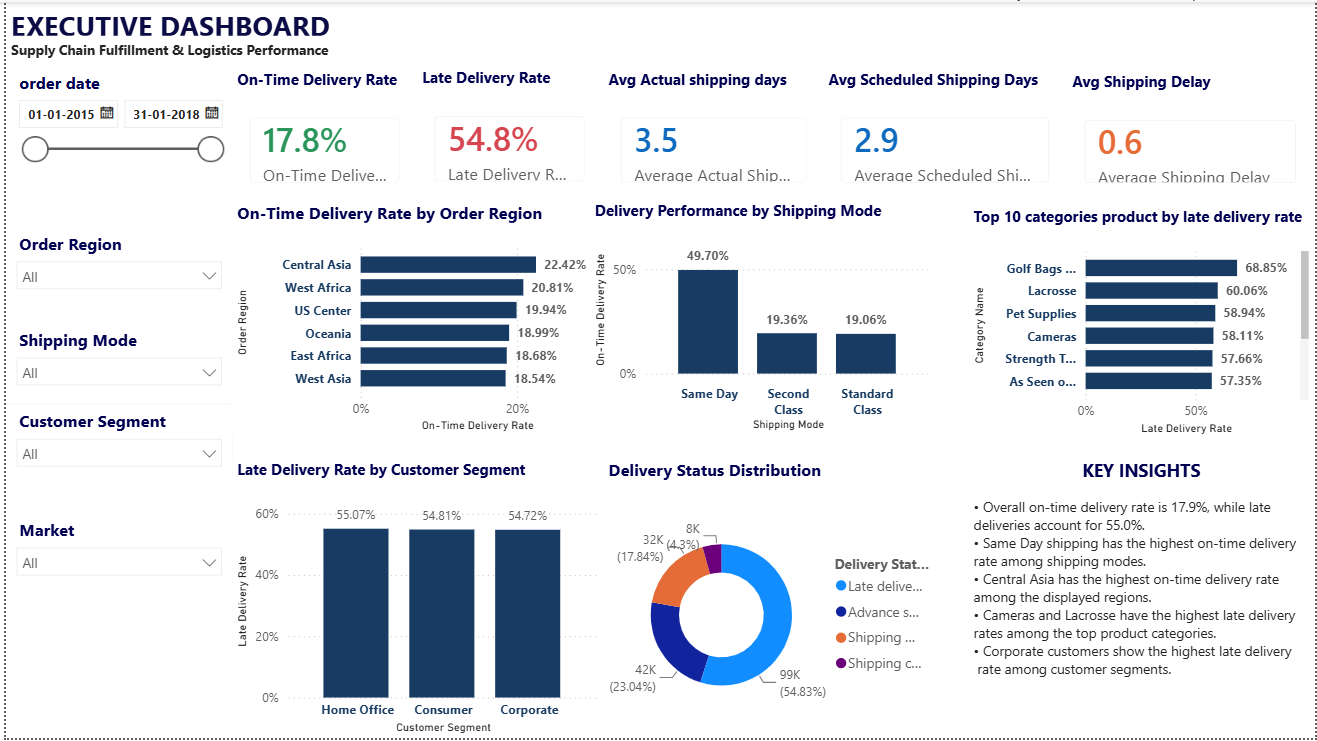

The dashboard page shown, as its layout file describes it:
{"tool":"powerbi","page":{"name":"Page 1","canvas":[1280,720],"ordinal":0},"visuals":[{"type":"shape","box":[0,62.7,221.3,657.3],"z":0},{"type":"textbox","box":[0,0,328.9,47.7],"z":1000},{"type":"textbox","box":[0,33,328.9,29.3],"z":2000},{"type":"slicer","fields":{"Values":["DataCoSupplyChainDataset_cleaned.Order Region"]},"box":[0,220,221.3,94.7],"z":3000},{"type":"slicer","fields":{"Values":["DataCoSupplyChainDataset_cleaned.Shipping Mode"]},"box":[0,314.7,221.3,78.7],"z":4000},{"type":"slicer","fields":{"Values":["DataCoSupplyChainDataset_cleaned.order date (DateOrders)"]},"box":[0,62.7,221.3,157.3],"z":5000},{"type":"slicer","fields":{"Values":["DataCoSupplyChainDataset_cleaned.Customer Segment"]},"box":[0,393.3,221.3,106.7],"z":6000},{"type":"slicer","fields":{"Values":["DataCoSupplyChainDataset_cleaned.Market"]},"box":[0,500,221.3,220],"z":7000},{"type":"cardVisual","title":"On-Time Delivery Rate","fields":{"Data":["DataCoSupplyChainDataset_cleaned.On-Time Delivery Rate"]},"box":[221.3,65.3,181.3,129.3],"z":8000},{"type":"cardVisual","title":"Late Delivery Rate","fields":{"Data":["DataCoSupplyChainDataset_cleaned.Late Delivery Rate"]},"box":[402.7,64,181.3,129.3],"z":9000},{"type":"cardVisual","title":"Avg Actual shipping days","fields":{"Data":["DataCoSupplyChainDataset_cleaned.Average Actual Shipping Days"]},"box":[584,65.3,216,129.3],"z":10000},{"type":"cardVisual","title":"Avg Scheduled Shipping Days","fields":{"Data":["DataCoSupplyChainDataset_cleaned.Average Scheduled Shipping Days"]},"box":[800,65.3,238.7,129.3],"z":11000},{"type":"cardVisual","title":"Avg Shipping Delay","fields":{"Data":["DataCoSupplyChainDataset_cleaned.Average Shipping Delay"]},"box":[1038.7,62.7,241.3,132],"z":12000},{"type":"clusteredBarChart","title":"On-Time Delivery Rate by Order Region","fields":{"Category":["DataCoSupplyChainDataset_cleaned.Order Region"],"Y":["DataCoSupplyChainDataset_cleaned.On-Time Delivery Rate"]},"box":[221.3,194.4,380.3,231.1],"z":13000},{"type":"clusteredColumnChart","title":"Delivery Performance by Shipping Mode","fields":{"Category":["DataCoSupplyChainDataset_cleaned.Shipping Mode"],"Y":["DataCoSupplyChainDataset_cleaned.On-Time Delivery Rate"]},"box":[571.1,193.2,338.7,231.1],"z":14000},{"type":"clusteredBarChart","title":"Top 10 categories product by late delivery rate ","fields":{"Category":["DataCoSupplyChainDataset_cleaned.Category Name"],"Y":["DataCoSupplyChainDataset_cleaned.Late Delivery Rate"]},"box":[941.6,199.3,337.5,228.7],"z":15000},{"type":"clusteredColumnChart","fields":{"Y":["DataCoSupplyChainDataset_cleaned.Late Delivery Rate"],"Category":["DataCoSupplyChainDataset_cleaned.Customer Segment"]},"box":[221.3,446.3,363.2,273.9],"z":16000},{"type":"donutChart","title":"Delivery Status Distribution","fields":{"Category":["DataCoSupplyChainDataset_cleaned.Delivery Status"],"Y":["DataCoSupplyChainDataset_cleaned.Total Deliveries"]},"box":[584,446,326,274],"z":17000},{"type":"textbox","title":"KEY INSIGHTS","box":[942,446,338,274],"z":18000}]}

Visuals, with their boxes in screenshot pixels (x1, y1, x2, y2), scaled from the page's 1280x720 canvas onto the 1317x741 screenshot:
shape: {"x1": 0, "y1": 65, "x2": 228, "y2": 740}
textbox: {"x1": 0, "y1": 0, "x2": 338, "y2": 49}
textbox: {"x1": 0, "y1": 34, "x2": 338, "y2": 64}
slicer - DataCoSupplyChainDataset_cleaned.Order Region: {"x1": 0, "y1": 226, "x2": 228, "y2": 324}
slicer - DataCoSupplyChainDataset_cleaned.Shipping Mode: {"x1": 0, "y1": 324, "x2": 228, "y2": 405}
slicer - DataCoSupplyChainDataset_cleaned.order date (DateOrders): {"x1": 0, "y1": 65, "x2": 228, "y2": 226}
slicer - DataCoSupplyChainDataset_cleaned.Customer Segment: {"x1": 0, "y1": 405, "x2": 228, "y2": 515}
slicer - DataCoSupplyChainDataset_cleaned.Market: {"x1": 0, "y1": 515, "x2": 228, "y2": 740}
"On-Time Delivery Rate" cardVisual: {"x1": 228, "y1": 67, "x2": 414, "y2": 200}
"Late Delivery Rate" cardVisual: {"x1": 414, "y1": 66, "x2": 601, "y2": 199}
"Avg Actual shipping days" cardVisual: {"x1": 601, "y1": 67, "x2": 823, "y2": 200}
"Avg Scheduled Shipping Days" cardVisual: {"x1": 823, "y1": 67, "x2": 1069, "y2": 200}
"Avg Shipping Delay" cardVisual: {"x1": 1069, "y1": 65, "x2": 1316, "y2": 200}
"On-Time Delivery Rate by Order Region" clusteredBarChart: {"x1": 228, "y1": 200, "x2": 619, "y2": 438}
"Delivery Performance by Shipping Mode" clusteredColumnChart: {"x1": 588, "y1": 199, "x2": 936, "y2": 437}
"Top 10 categories product by late delivery rate " clusteredBarChart: {"x1": 969, "y1": 205, "x2": 1316, "y2": 440}
clusteredColumnChart - DataCoSupplyChainDataset_cleaned.Late Delivery Rate x DataCoSupplyChainDataset_cleaned.Customer Segment: {"x1": 228, "y1": 459, "x2": 601, "y2": 740}
"Delivery Status Distribution" donutChart: {"x1": 601, "y1": 459, "x2": 936, "y2": 740}
"KEY INSIGHTS" textbox: {"x1": 969, "y1": 459, "x2": 1316, "y2": 740}
